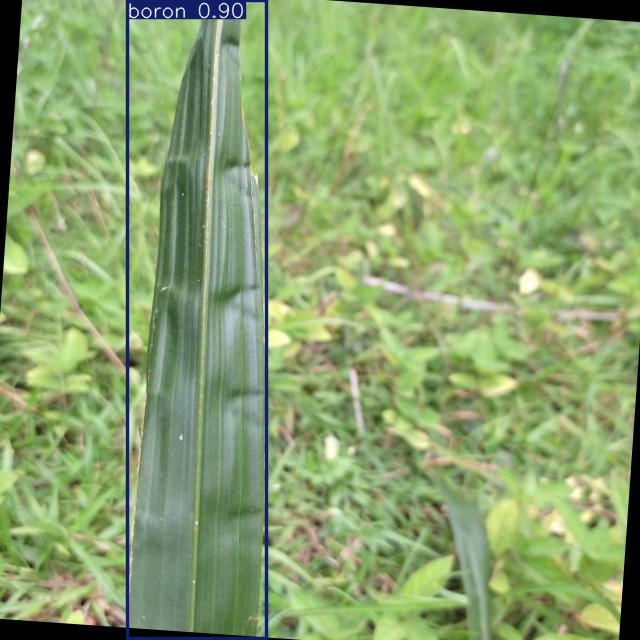nitrogen: (128, 0, 266, 639)
